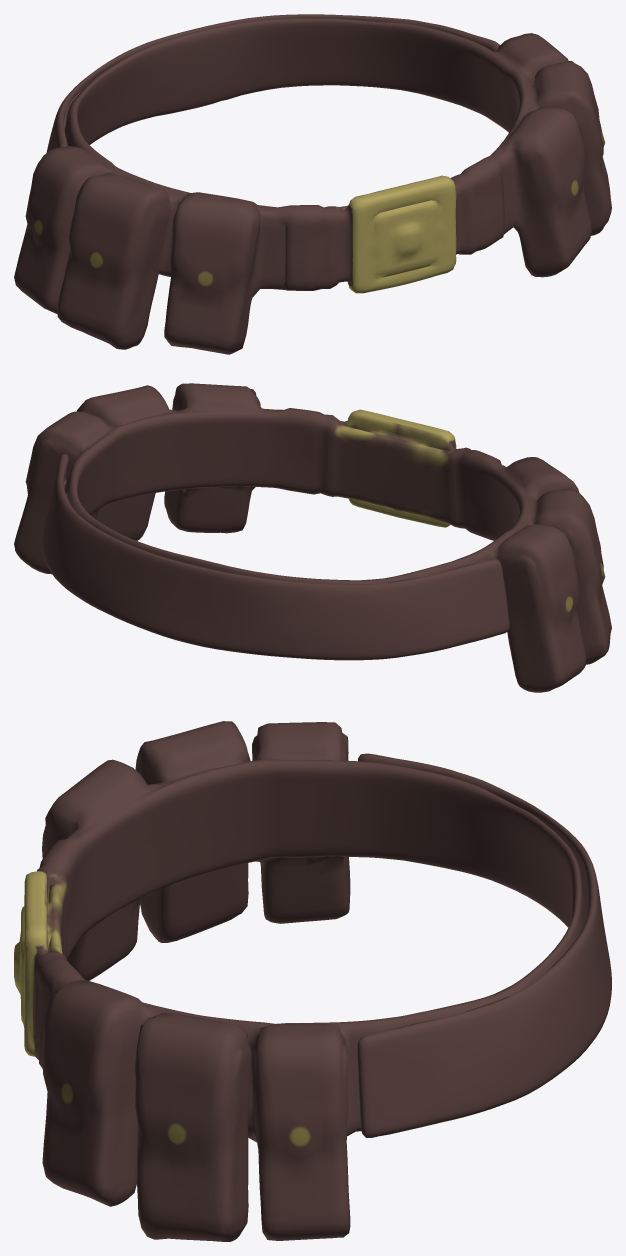
File: Belt_Mesh.fbx
3 views of the same model, one above another, from view 1: azimuth 30°, elevation 25°; view 2: azimuth 150°, elevation 25°; view 3: azimuth 270°, elevation 25° (orthographic). The views are drawn at different scales.
Visible parts, largest first — view 1: Low.Belt; view 2: Low.Belt; view 3: Low.Belt.
Boxes of the visible parts, left/top/right/bottom form: Low.Belt: left=14, top=14, right=611, bottom=354; Low.Belt: left=14, top=383, right=611, bottom=692; Low.Belt: left=14, top=721, right=611, bottom=1241.
Size of the model in its own units: 34.67 by 9.41 by 24.29.
Materials: 1 (1 with a texture image).
